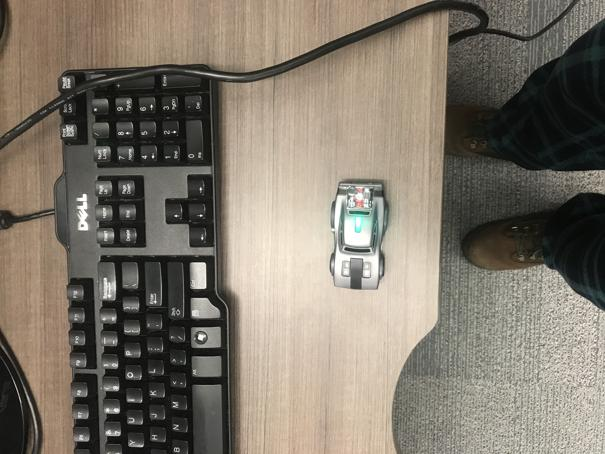Charger: (329, 181, 388, 290)
